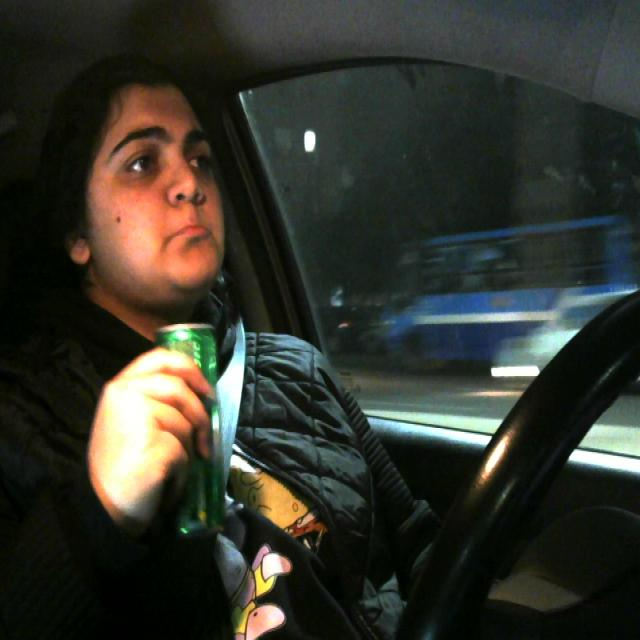drinking: (151, 322, 228, 543)
